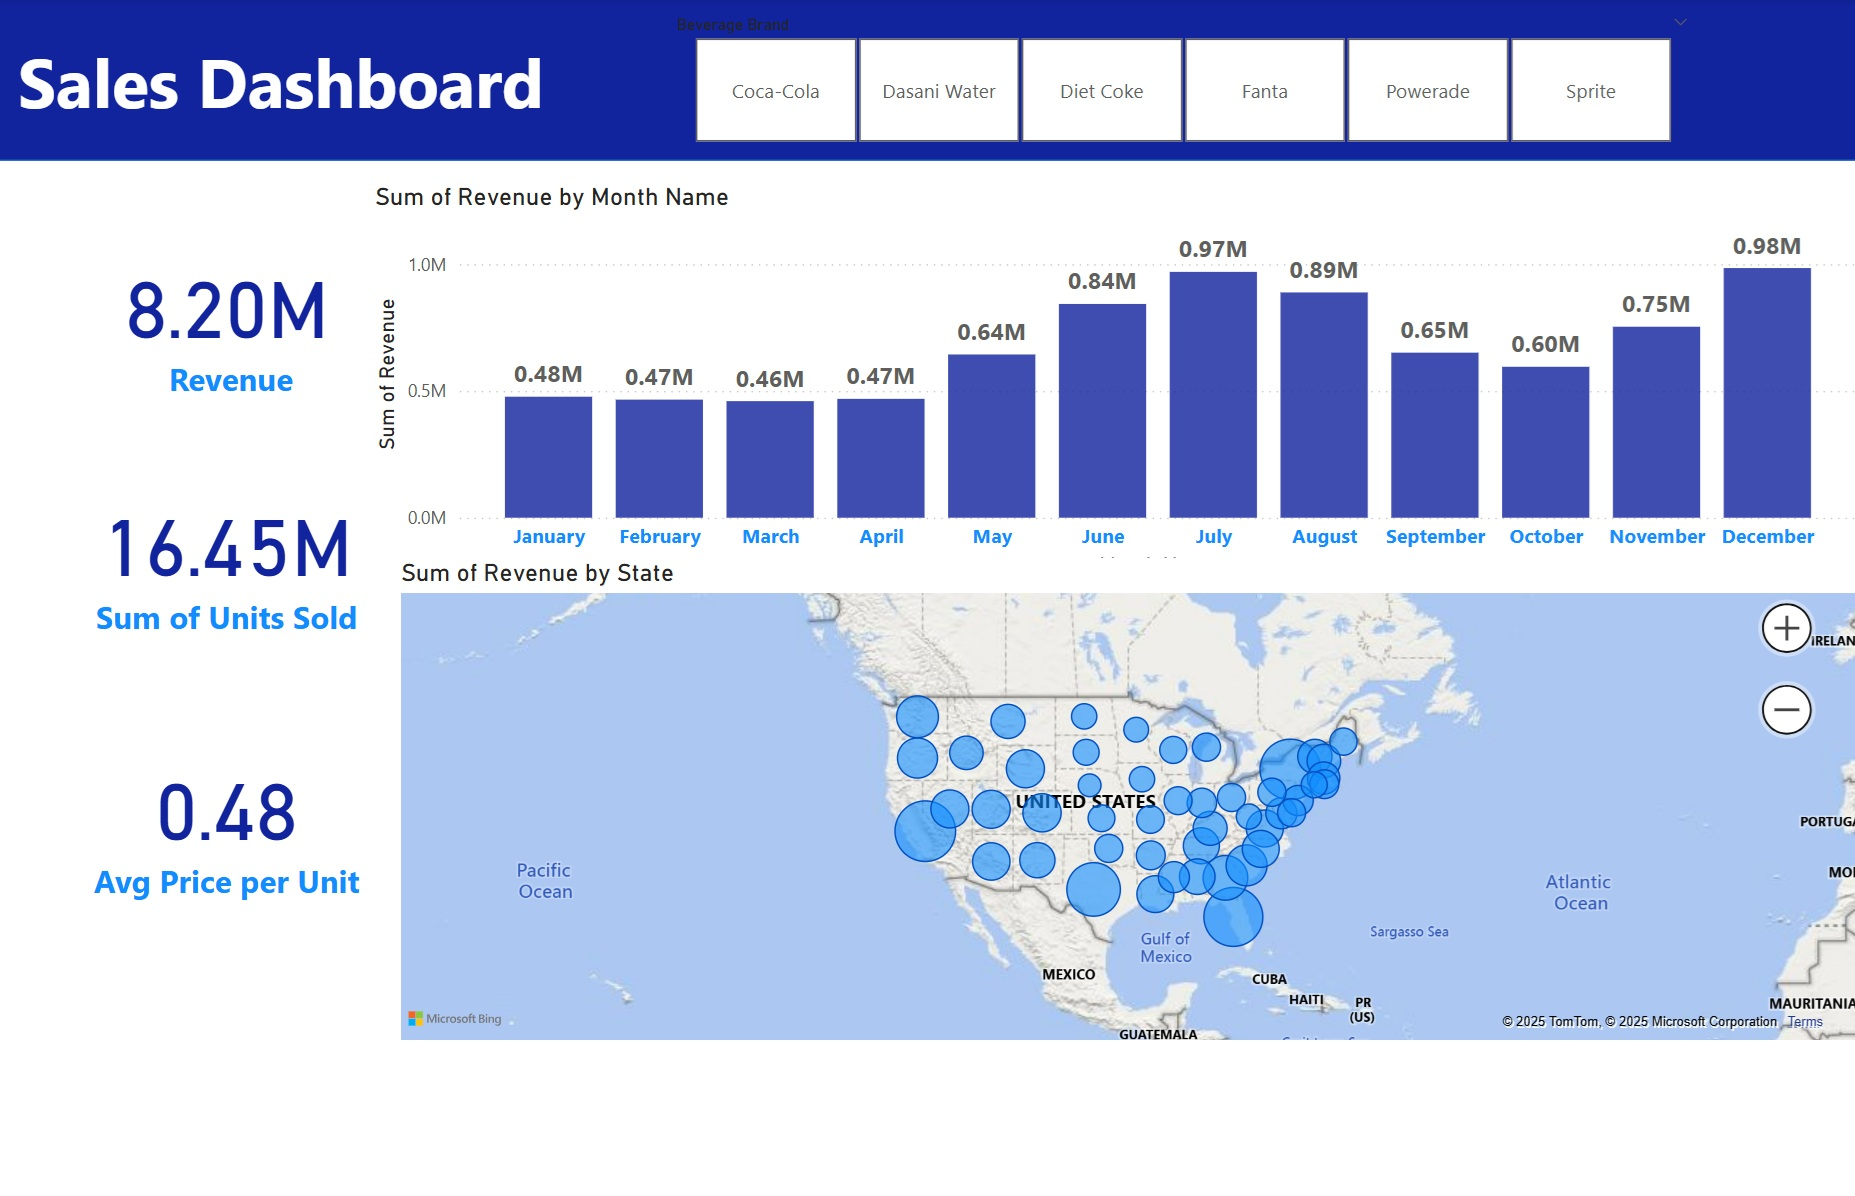

Layout of this report page (visuals, bound fields, positions):
{"tool":"powerbi","page":{"name":"Page 1","canvas":[1280,720],"ordinal":0},"visuals":[{"type":"shape","box":[0,0,1280,111.7],"z":0},{"type":"card","fields":{"Values":["Sum(Data.Revenue)"]},"box":[0,140.1,316.2,162.8],"z":1},{"type":"card","fields":{"Values":["Sum(Data.Units Sold)"]},"box":[0,303,316.2,162.8],"z":2},{"type":"card","fields":{"Values":["Avg(Data.Price per Unit)"]},"box":[0,484.7,316.2,162.8],"z":3},{"type":"columnChart","fields":{"Category":["Data.Month Name"],"Y":["Sum(Data.Revenue)"]},"box":[255.7,125.7,1025.7,275.7],"z":4},{"type":"map","fields":{"Size":["Sum(Data.Revenue)"],"Category":["Data.State"]},"box":[272.9,384.3,1010,335.7],"z":5},{"type":"slicer","fields":{"Values":["Data.Beverage Brand"]},"box":[454.3,7.1,718.6,98.6],"z":6}]}

Visuals, with their boxes on the page's 1280x720 design canvas (x1, y1, x2, y2). These are canvas units, not pixel positions in the 1855x1196 screenshot, which may show the page scaled, cropped or inside an application window:
shape: rect(0, 0, 1280, 112)
card - Sum(Data.Revenue): rect(0, 140, 316, 303)
card - Sum(Data.Units Sold): rect(0, 303, 316, 466)
card - Avg(Data.Price per Unit): rect(0, 485, 316, 648)
columnChart - Data.Month Name x Sum(Data.Revenue): rect(256, 126, 1281, 401)
map - Sum(Data.Revenue) x Data.State: rect(273, 384, 1283, 720)
slicer - Data.Beverage Brand: rect(454, 7, 1173, 106)
